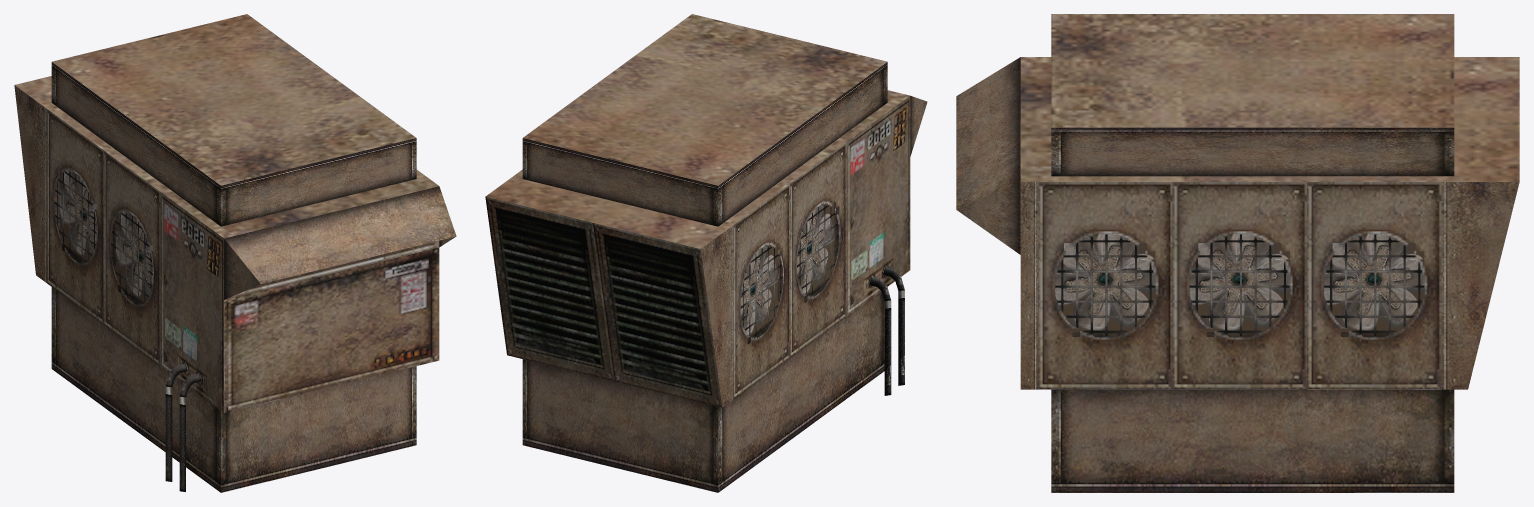
The model's file is roof_fan_vents_large.fbx.
The picture shows the model from 3 angles, left to right: view 1: azimuth 30°, elevation 25°; view 2: azimuth 150°, elevation 25°; view 3: azimuth 270°, elevation 25°; orthographic projection. The views are drawn at different scales.
Parts seen in each view (by area): view 1: mesh_5, mesh_0, mesh_1; view 2: mesh_5, mesh_1, mesh_0; view 3: mesh_5, mesh_4, mesh_3, mesh_2.
Boxes of the visible parts, x1,y1,x2,y2 form: mesh_5: [14, 14, 456, 492]; mesh_0: [59, 169, 96, 260]; mesh_1: [116, 211, 152, 302]; mesh_5: [485, 14, 927, 492]; mesh_1: [797, 203, 834, 294]; mesh_0: [740, 244, 777, 335]; mesh_5: [956, 14, 1519, 492]; mesh_4: [1324, 233, 1424, 331]; mesh_3: [1055, 233, 1155, 331]; mesh_2: [1189, 233, 1290, 331].
Bounding box in the file's own units: 240 × 300 × 419.
Materials: 2 (2 with a texture image).
